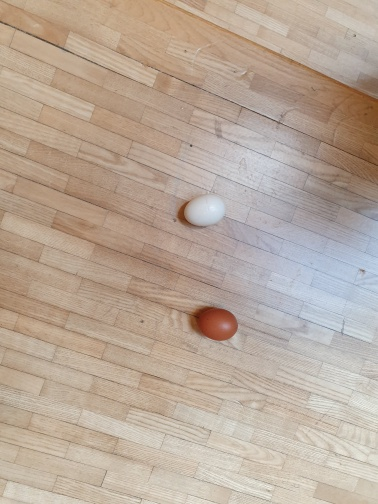egg: (195, 305, 239, 344), (184, 193, 226, 230)
